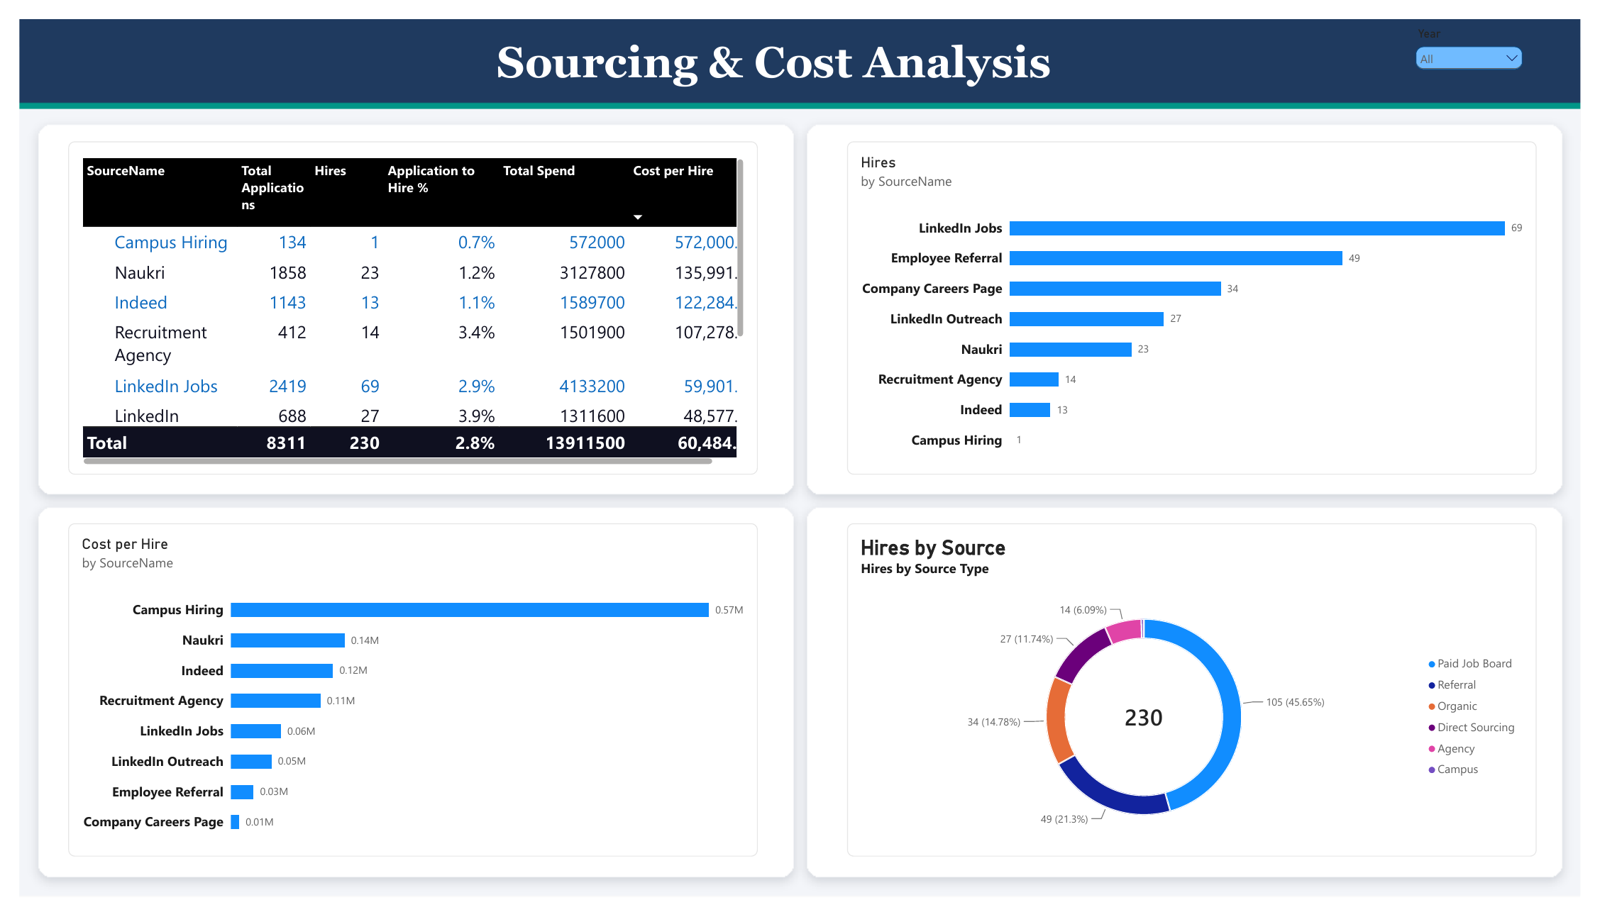

What the dashboard file says about the page in this screenshot:
{"tool":"powerbi","page":{"name":"Sourcing & Cost","canvas":[1920,1080],"ordinal":1},"visuals":[{"type":"textbox","box":[0,0,1920,102.5],"z":0},{"type":"tableEx","fields":{"Values":["Sources.SourceName","_Measures.Total Applications","_Measures.Hires","_Measures.Application to Hire %","_Measures.Total Spend","_Measures.Cost per Hire"]},"box":[60,150,848,410],"z":1000},{"type":"barChart","fields":{"Category":["Sources.SourceName"],"Y":["_Measures.Hires"]},"box":[1018,150,848,410],"z":2000},{"type":"barChart","fields":{"Category":["Sources.SourceName"],"Y":["_Measures.Cost per Hire"]},"box":[60,620,848,410],"z":3000},{"type":"donutChart","title":"Hires by Source","fields":{"Category":["Sources.SourceType"],"Y":["_Measures.Hires"]},"box":[1018,620,848,410],"z":4000},{"type":"slicer","fields":{"Values":["DimDate.Year"]},"box":[1712,10,142,96],"z":5000}]}

Visuals, with their boxes in screenshot pixels (x1, y1, x2, y2), scaled from the page's 1920x1080 canvas onto the 1600x917 screenshot:
textbox: [0, 0, 1599, 87]
tableEx - Sources.SourceName x _Measures.Total Applications: [50, 127, 757, 475]
barChart - Sources.SourceName x _Measures.Hires: [848, 127, 1555, 475]
barChart - Sources.SourceName x _Measures.Cost per Hire: [50, 526, 757, 875]
"Hires by Source" donutChart: [848, 526, 1555, 875]
slicer - DimDate.Year: [1427, 8, 1545, 90]
